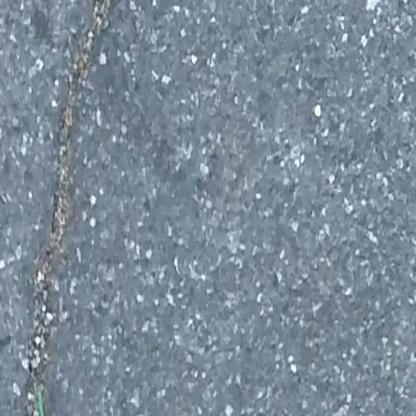Cracks: (21, 0, 125, 416)
